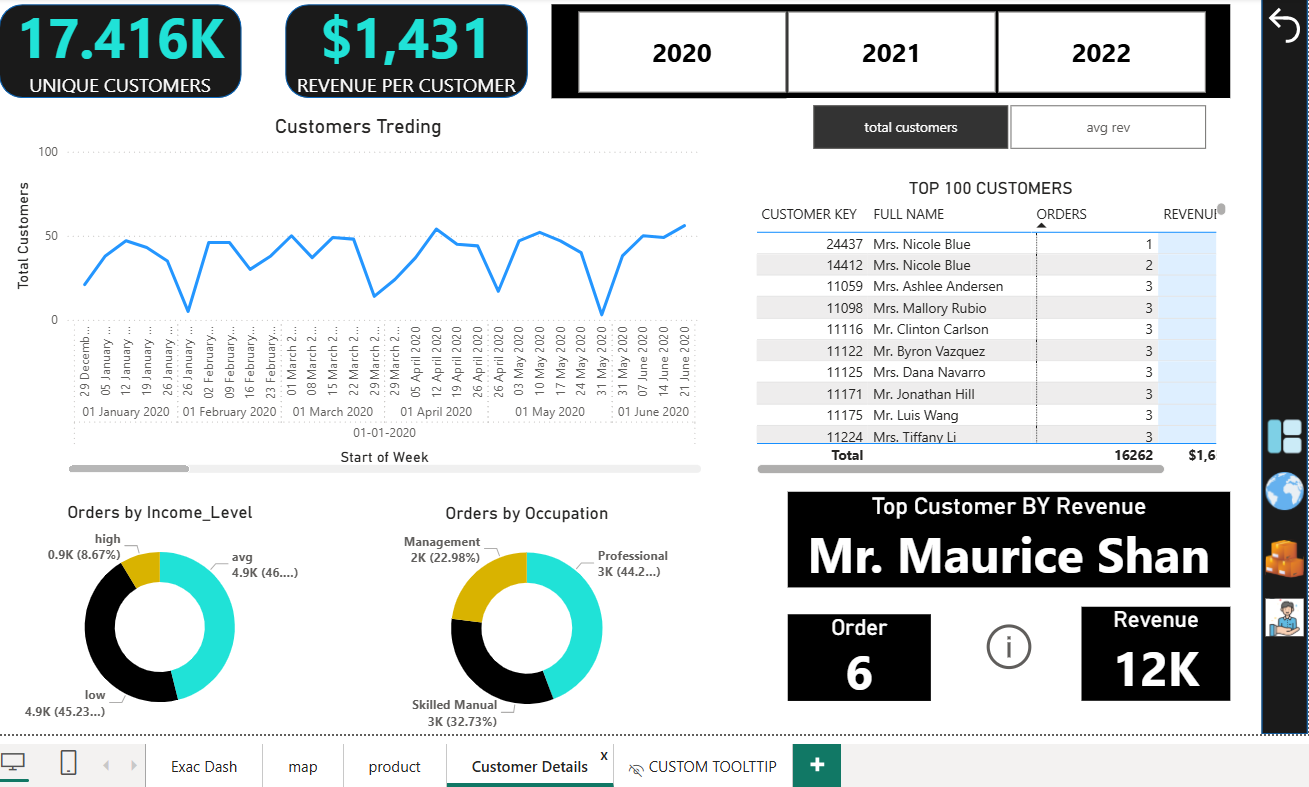

The page's visual inventory and layout, read from the dashboard file:
{"tool":"powerbi","page":{"name":"Customer Details","canvas":[1280,720],"ordinal":3},"visuals":[{"type":"group","id":"g1","title":"Group 1","box":[0,0,517.5,97.5],"z":0},{"type":"actionButton","box":[1235.1,399.9,45.2,57.5],"z":0,"group":"g2"},{"type":"shape","box":[0,6.1,237.2,91.7],"z":1000,"group":"g1"},{"type":"actionButton","box":[1235.1,457.4,45.2,50.1],"z":1000,"group":"g2"},{"type":"card","title":"Top Customer BY Revenue","fields":{"Values":["Tables Measures.full name for cd"]},"box":[771.9,483.3,432.8,93.8],"z":1000},{"type":"lineChart","title":" Customers Treding","fields":{"Y":["Tables Measures.total customers"],"Category":["Rolling Calender.Start of Year","Rolling Calender.Start of Month","Rolling Calender.Start of Week","Rolling Calender.Date"]},"box":[11.5,115.4,681,354.9],"z":2000},{"type":"actionButton","box":[1235.1,519.7,45.2,57.5],"z":2000,"group":"g2"},{"type":"shape","box":[280,6.1,237.2,91.7],"z":3000,"group":"g1"},{"type":"actionButton","box":[1235.1,577.2,45.2,57.5],"z":3000,"group":"g2"},{"type":"card","title":"Revenue","fields":{"Values":["Tables Measures.totall rev for customer detail"]},"box":[1059,595.9,145.7,92.3],"z":3000},{"type":"donutChart","title":"Orders by Income_Level","fields":{"Y":["Tables Measures.total orders"],"Category":["Customer Lookup.income_Level"]},"box":[0,492.5,315,226.2],"z":4000},{"type":"card","title":"Order","fields":{"Values":["Tables Measures.total order for customer detail"]},"box":[771.9,603.1,139.9,85.1],"z":5000},{"type":"card","fields":{"Values":["Tables Measures.total customers"]},"box":[0,0,237.2,97.8],"z":6000,"group":"g1"},{"type":"donutChart","title":"Orders by Occupation","fields":{"Y":["Tables Measures.total orders"],"Category":["Customer Lookup.Occupation"]},"box":[352.5,493.8,328.8,226.2],"z":6000},{"type":"tableEx","title":"TOP 100 CUSTOMERS","fields":{"Values":["Customer Lookup.CustomerKey","Customer Lookup.Full Name","Tables Measures.total orders","Tables Measures.total rev"]},"box":[734.4,176,470.3,294.3],"z":7000},{"type":"slicer","fields":{"Values":["Rolling Calender.Year"]},"box":[541,5.8,663.7,92.3],"z":8000},{"type":"card","fields":{"Values":["Tables Measures.avg rev"]},"box":[280,0,237.2,97.8],"z":9000,"group":"g1"},{"type":"actionButton","box":[959.4,606,57.7,56.3],"z":9000},{"type":"shape","box":[1235.1,0,45.2,720.2],"z":10000},{"type":"actionButton","box":[1235.1,0,45.2,52.6],"z":11000},{"type":"group","id":"g2","title":"Group 1","box":[1235.1,399.9,45.2,234.8],"z":12000},{"type":"slicer","fields":{"Values":["CUSTOMER METRIC SOLUTION.CUSTOMER METRIC SOLUTION"]},"box":[770.4,98.1,434.3,56.3],"z":13000}]}

Visuals, with their boxes on the page's 1280x720 design canvas (x1, y1, x2, y2). These are canvas units, not pixel positions in the 1309x787 screenshot, which may show the page scaled, cropped or inside an application window:
"Group 1" group: pyautogui.locateOnScreen(0, 0, 518, 98)
actionButton: pyautogui.locateOnScreen(1235, 400, 1280, 457)
shape: pyautogui.locateOnScreen(0, 6, 237, 98)
actionButton: pyautogui.locateOnScreen(1235, 457, 1280, 508)
"Top Customer BY Revenue" card: pyautogui.locateOnScreen(772, 483, 1205, 577)
" Customers Treding" lineChart: pyautogui.locateOnScreen(12, 115, 692, 470)
actionButton: pyautogui.locateOnScreen(1235, 520, 1280, 577)
shape: pyautogui.locateOnScreen(280, 6, 517, 98)
actionButton: pyautogui.locateOnScreen(1235, 577, 1280, 635)
"Revenue" card: pyautogui.locateOnScreen(1059, 596, 1205, 688)
"Orders by Income_Level" donutChart: pyautogui.locateOnScreen(0, 492, 315, 719)
"Order" card: pyautogui.locateOnScreen(772, 603, 912, 688)
card - Tables Measures.total customers: pyautogui.locateOnScreen(0, 0, 237, 98)
"Orders by Occupation" donutChart: pyautogui.locateOnScreen(352, 494, 681, 720)
"TOP 100 CUSTOMERS" tableEx: pyautogui.locateOnScreen(734, 176, 1205, 470)
slicer - Rolling Calender.Year: pyautogui.locateOnScreen(541, 6, 1205, 98)
card - Tables Measures.avg rev: pyautogui.locateOnScreen(280, 0, 517, 98)
actionButton: pyautogui.locateOnScreen(959, 606, 1017, 662)
shape: pyautogui.locateOnScreen(1235, 0, 1280, 720)
actionButton: pyautogui.locateOnScreen(1235, 0, 1280, 53)
"Group 1" group: pyautogui.locateOnScreen(1235, 400, 1280, 635)
slicer - CUSTOMER METRIC SOLUTION.CUSTOMER METRIC SOLUTION: pyautogui.locateOnScreen(770, 98, 1205, 154)
